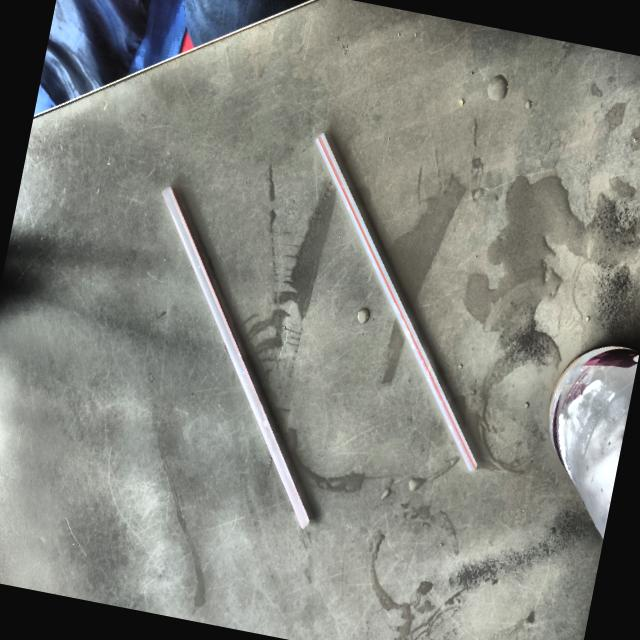plastic straw: (316, 134, 477, 471), (162, 187, 309, 528)
